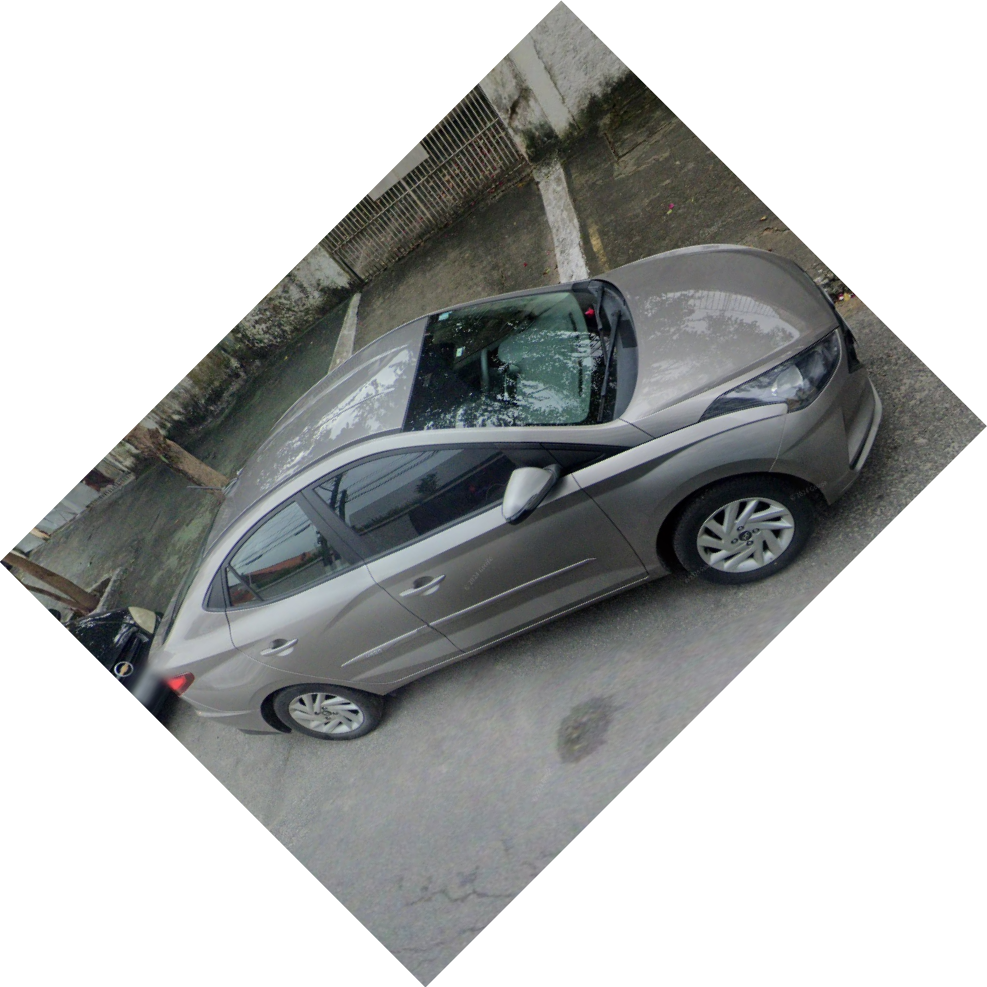car: (143, 239, 889, 746)
